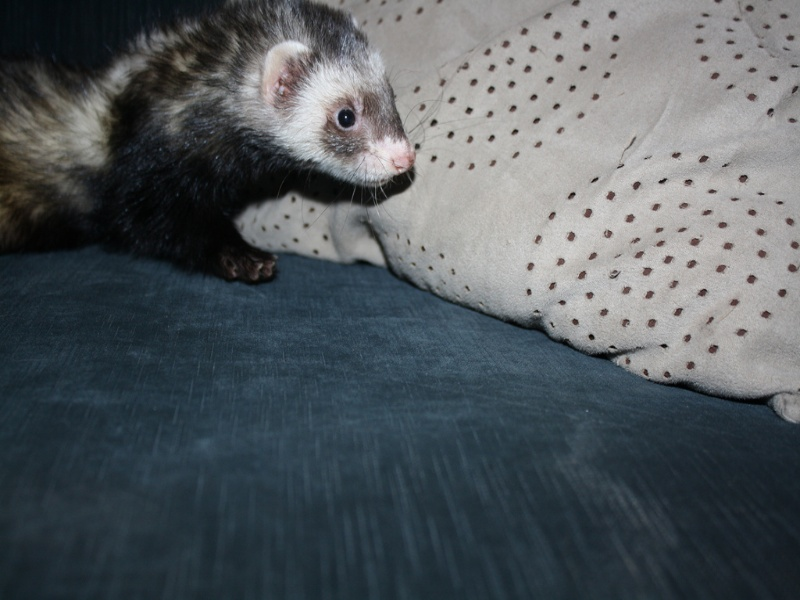minkish: (1, 4, 424, 298)
